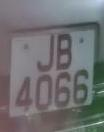0: (33, 71, 55, 115)
4: (12, 74, 37, 115)
6: (53, 70, 73, 111), (72, 69, 91, 110)
B: (54, 30, 74, 75)
J: (33, 33, 55, 76)
